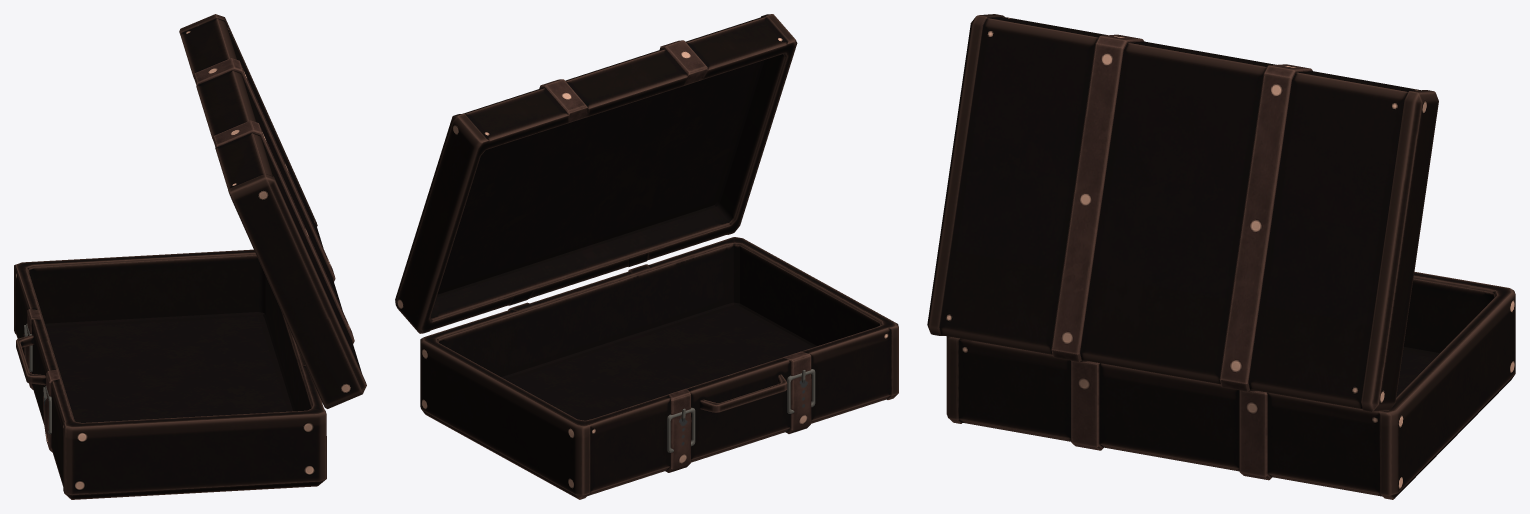
The model's file is Suitcase_4.glb.
3 views of the same model, side by side, from view 1: azimuth 30°, elevation 25°; view 2: azimuth 150°, elevation 25°; view 3: azimuth 270°, elevation 25° (orthographic). The views are drawn at different scales.
Parts seen in each view (by area): view 1: Object_15; view 2: Object_15; view 3: Object_15.
Part boxes in pixels (<box>): Object_15: <box>14,14,366,499</box>; Object_15: <box>395,14,898,499</box>; Object_15: <box>927,14,1515,499</box>.
Bounding box in the file's own units: 7.05 × 5.67 × 7.85.
Materials: 1 (1 with a texture image).
